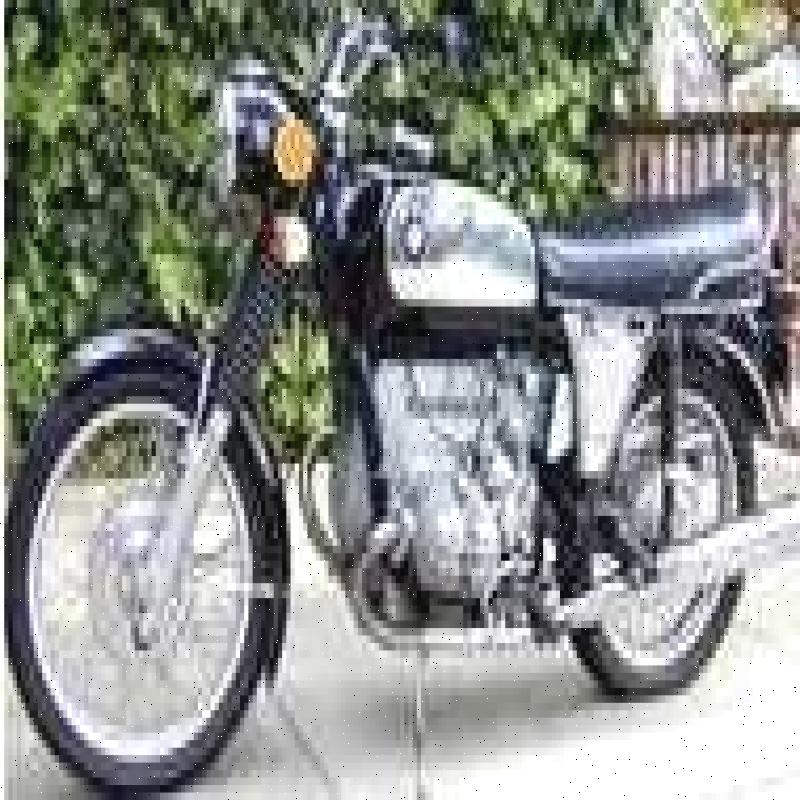bike: (12, 9, 772, 800)
